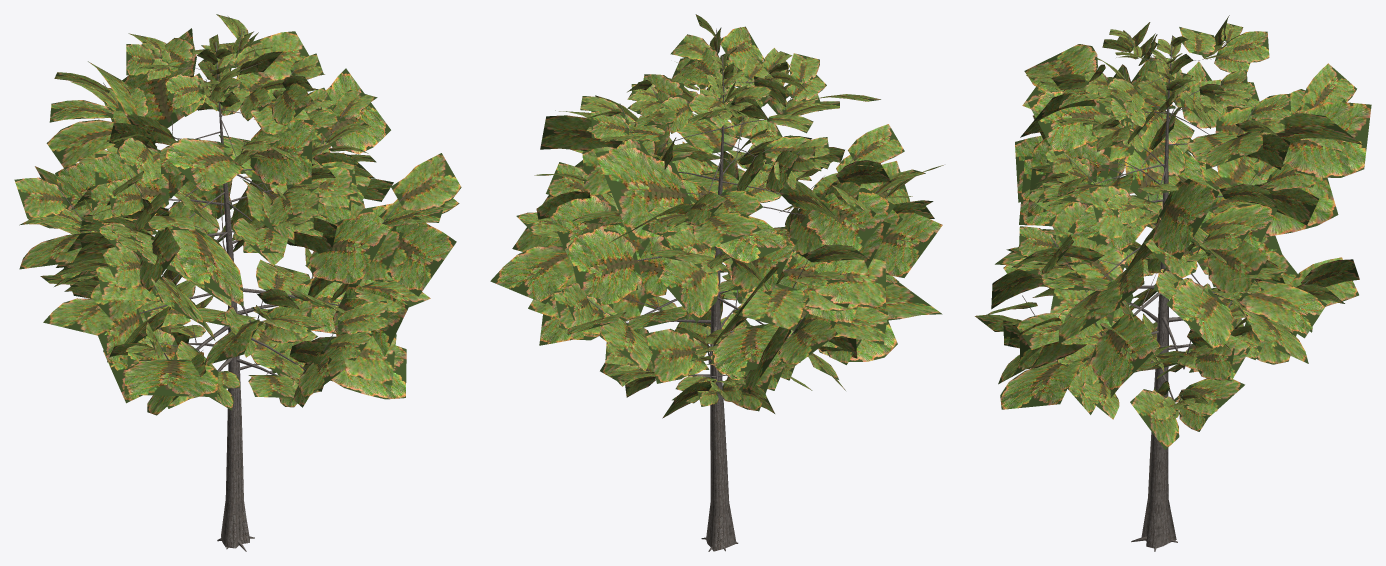
File: EasternWhitePine.fbx
3 renders of one model, left to right at view 1: azimuth 30°, elevation 25°; view 2: azimuth 150°, elevation 25°; view 3: azimuth 270°, elevation 25°, orthographic.
Parts seen in each view (by area): view 1: Foliage, Bark; view 2: Foliage, Bark; view 3: Foliage, Bark.
Part boxes in pixels (x1,y1,x2,y2): Foliage: (14, 14, 461, 415); Bark: (57, 29, 408, 551); Foliage: (490, 14, 943, 418); Bark: (578, 28, 892, 551); Foliage: (975, 15, 1371, 449); Bark: (1022, 33, 1319, 551).
Bounding box in the file's own units: 19.6 × 25.2 × 17.99.
